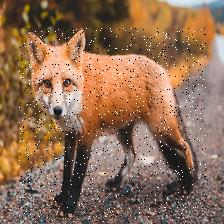fox: (20, 29, 207, 223)
